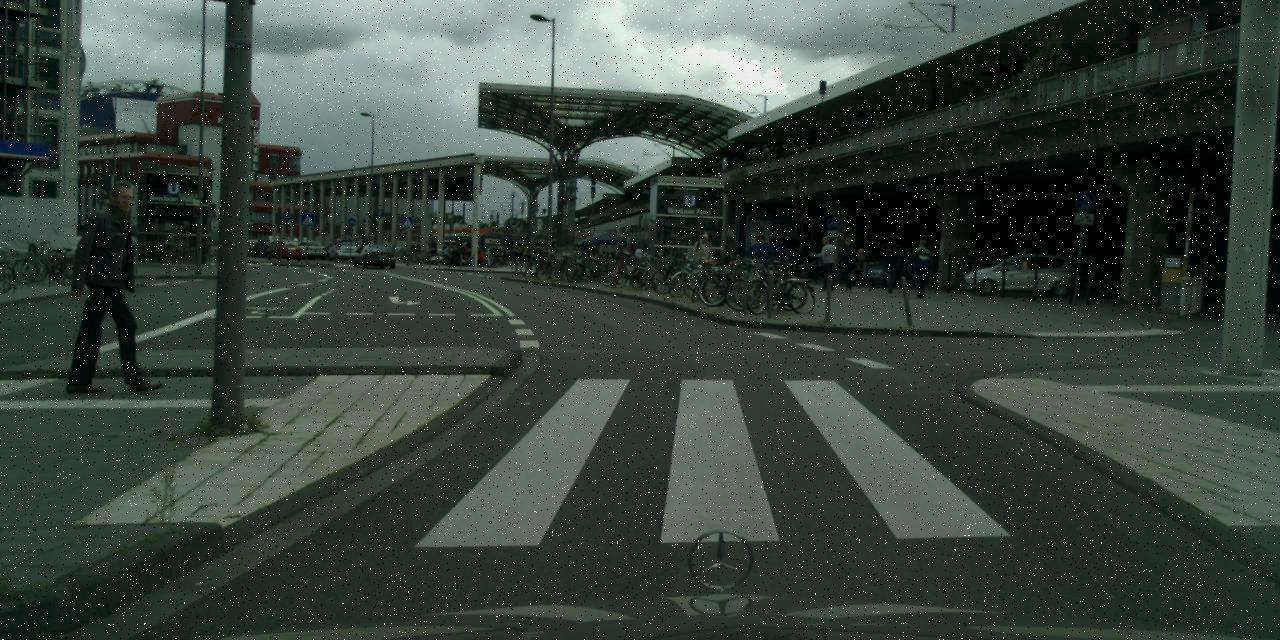ped: (75, 181, 161, 391), (832, 236, 868, 295), (910, 240, 933, 296), (816, 237, 838, 290), (692, 234, 712, 282)
